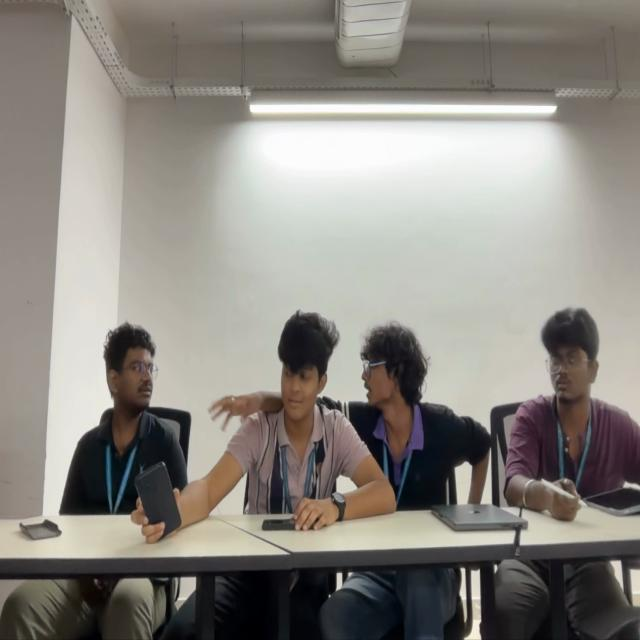Isolated: (503, 310, 640, 508), (60, 322, 186, 530)
socializing: (213, 310, 488, 504)
